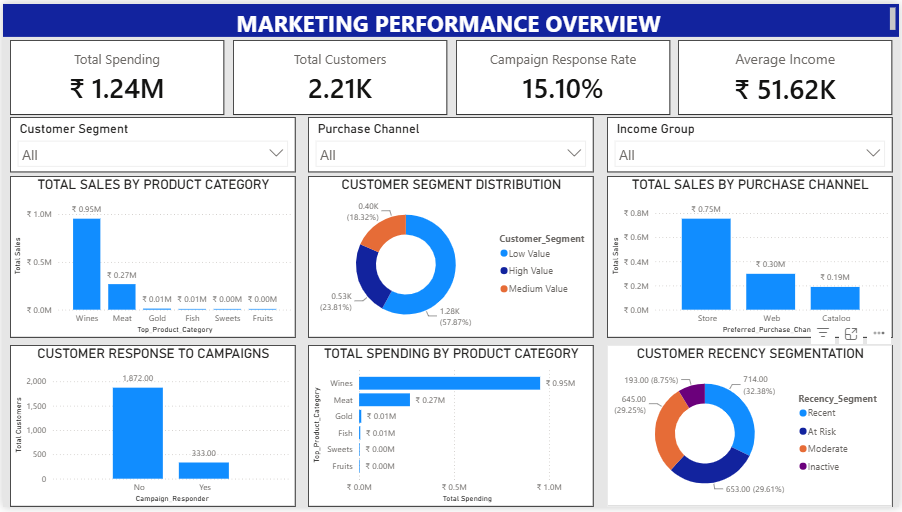

What the dashboard file says about the page in this screenshot:
{"tool":"powerbi","page":{"name":"MARKETING PERFORMANCE OVERVIEW","canvas":[1280,720],"ordinal":0},"visuals":[{"type":"cardVisual","fields":{"Data":["Food_Marketing_Analytics.Total Spending"]},"box":[10.3,53,306,107.4],"z":0},{"type":"cardVisual","fields":{"Data":["Food_Marketing_Analytics.Total Customers"]},"box":[328.1,53,306,107.4],"z":1},{"type":"cardVisual","fields":{"Data":["Food_Marketing_Analytics.Campaign Response Rate"]},"box":[647.4,53,306,107.4],"z":4},{"type":"cardVisual","fields":{"Data":["Food_Marketing_Analytics.Average Income"]},"box":[963.7,53,306,107.4],"z":5},{"type":"clusteredColumnChart","title":"TOTAL SALES BY PRODUCT CATEGORY","fields":{"Y":["Food_Marketing_Analytics.Total Sales"],"Category":["Food_Marketing_Analytics.Top_Product_Category"]},"box":[10.3,247.2,407.5,231],"z":6},{"type":"donutChart","title":"CUSTOMER SEGMENT DISTRIBUTION","fields":{"Y":["Food_Marketing_Analytics.Total Customers"],"Category":["Food_Marketing_Analytics.Customer_Segment"]},"box":[435.5,247.2,407.5,231],"z":7},{"type":"clusteredColumnChart","title":"TOTAL SALES BY PURCHASE CHANNEL","fields":{"Y":["Food_Marketing_Analytics.Total Sales"],"Category":["Food_Marketing_Analytics.Preferred_Purchase_Channel"]},"box":[862.2,247.2,407.5,231],"z":8},{"type":"clusteredColumnChart","title":"CUSTOMER RESPONSE TO CAMPAIGNS","fields":{"Y":["Food_Marketing_Analytics.Total Customers"],"Category":["Food_Marketing_Analytics.Campaign_Responder"]},"box":[10.3,488.5,407.5,231],"z":9},{"type":"clusteredBarChart","title":"TOTAL SPENDING BY PRODUCT CATEGORY","fields":{"Category":["Food_Marketing_Analytics.Top_Product_Category"],"Y":["Food_Marketing_Analytics.Total Spending"]},"box":[435.5,488.5,407.5,231],"z":10},{"type":"donutChart","title":"CUSTOMER RECENCY SEGMENTATION","fields":{"Y":["Food_Marketing_Analytics.Total Customers"],"Category":["Food_Marketing_Analytics.Recency_Segment"]},"box":[862.2,488.5,407.5,231],"z":11},{"type":"slicer","fields":{"Values":["Food_Marketing_Analytics.Customer_Segment"]},"box":[10.3,163.3,407.5,79.4],"z":12},{"type":"slicer","fields":{"Values":["Food_Marketing_Analytics.Preferred_Purchase_Channel"]},"box":[435.5,163.3,407.5,79.4],"z":13},{"type":"slicer","fields":{"Values":["Food_Marketing_Analytics.Income_Group"]},"box":[862.2,163.3,407.5,79.4],"z":14},{"type":"textbox","box":[0,1.5,1280,47.1],"z":15}]}

Visuals, with their boxes in screenshot pixels (x1, y1, x2, y2), scaled from the page's 1280x720 canvas onto the 902x512 screenshot:
cardVisual - Food_Marketing_Analytics.Total Spending: x1=7 y1=38 x2=223 y2=114
cardVisual - Food_Marketing_Analytics.Total Customers: x1=231 y1=38 x2=447 y2=114
cardVisual - Food_Marketing_Analytics.Campaign Response Rate: x1=456 y1=38 x2=672 y2=114
cardVisual - Food_Marketing_Analytics.Average Income: x1=679 y1=38 x2=895 y2=114
"TOTAL SALES BY PRODUCT CATEGORY" clusteredColumnChart: x1=7 y1=176 x2=294 y2=340
"CUSTOMER SEGMENT DISTRIBUTION" donutChart: x1=307 y1=176 x2=594 y2=340
"TOTAL SALES BY PURCHASE CHANNEL" clusteredColumnChart: x1=608 y1=176 x2=895 y2=340
"CUSTOMER RESPONSE TO CAMPAIGNS" clusteredColumnChart: x1=7 y1=347 x2=294 y2=511
"TOTAL SPENDING BY PRODUCT CATEGORY" clusteredBarChart: x1=307 y1=347 x2=594 y2=511
"CUSTOMER RECENCY SEGMENTATION" donutChart: x1=608 y1=347 x2=895 y2=511
slicer - Food_Marketing_Analytics.Customer_Segment: x1=7 y1=116 x2=294 y2=173
slicer - Food_Marketing_Analytics.Preferred_Purchase_Channel: x1=307 y1=116 x2=594 y2=173
slicer - Food_Marketing_Analytics.Income_Group: x1=608 y1=116 x2=895 y2=173
textbox: x1=0 y1=1 x2=901 y2=35
